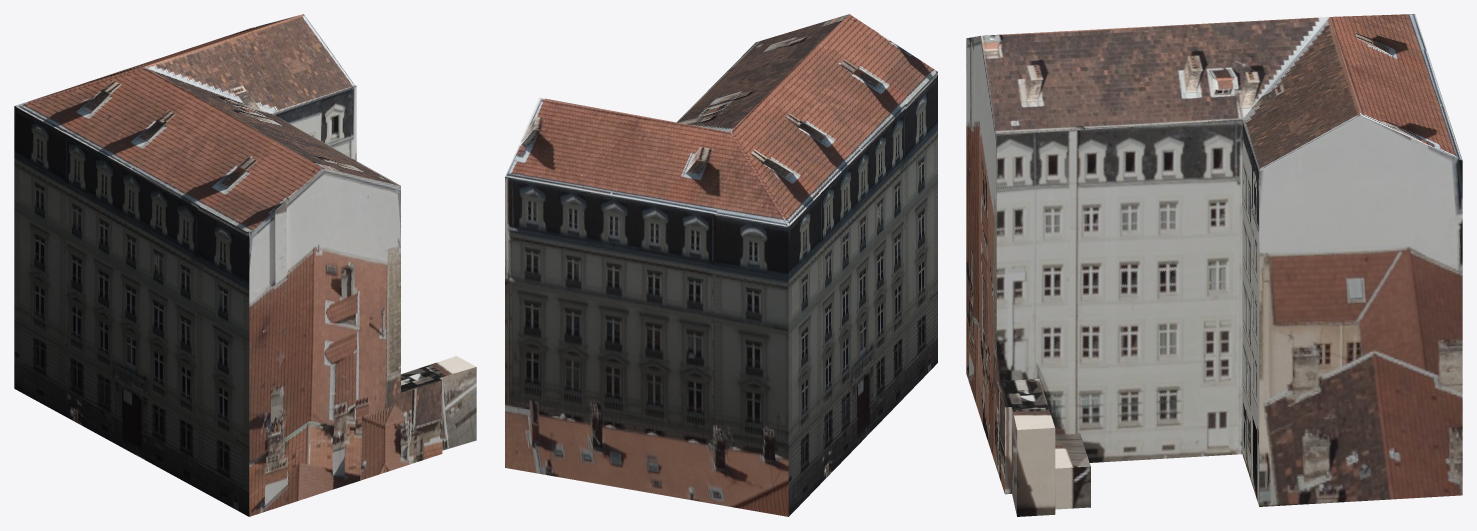
3 views of the same model, side by side, from view 1: azimuth 30°, elevation 25°; view 2: azimuth 150°, elevation 25°; view 3: azimuth 270°, elevation 25° (orthographic). The views are drawn at different scales.
Visible parts, largest first — view 1: Z_UP; view 2: Z_UP; view 3: Z_UP.
Boxes of the visible parts, x1,y1,x2,y2 form: Z_UP: (14, 14, 476, 516); Z_UP: (505, 14, 937, 516); Z_UP: (966, 14, 1462, 516).
Bounding box in the file's own units: 24.72 × 26.28 × 30.64.
Materials: 2 (1 with a texture image).
